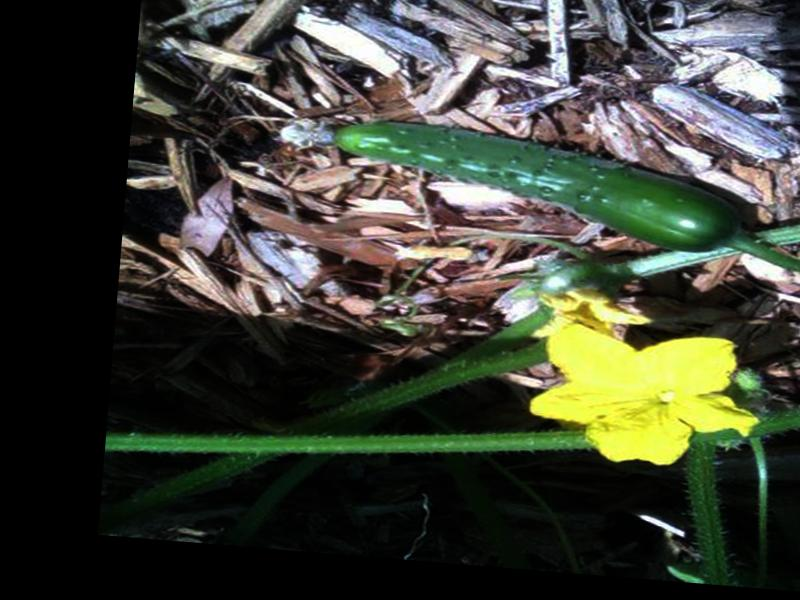Cucumber: (282, 109, 752, 256)
